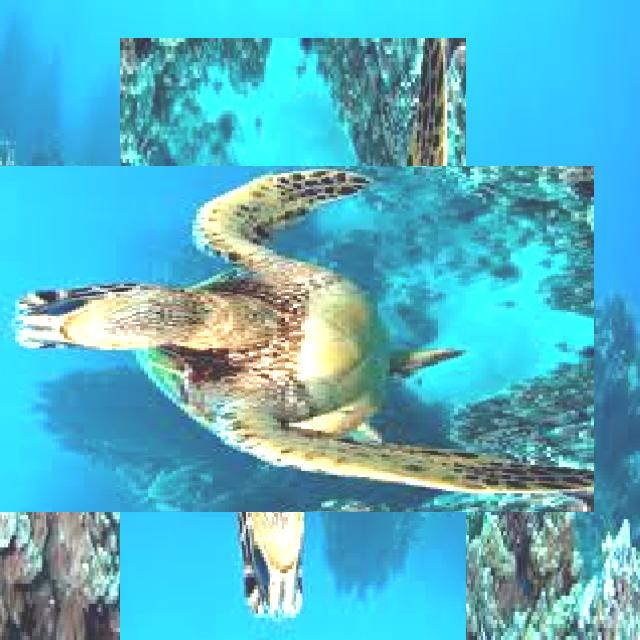Sea turtle: (56, 102, 530, 576)
